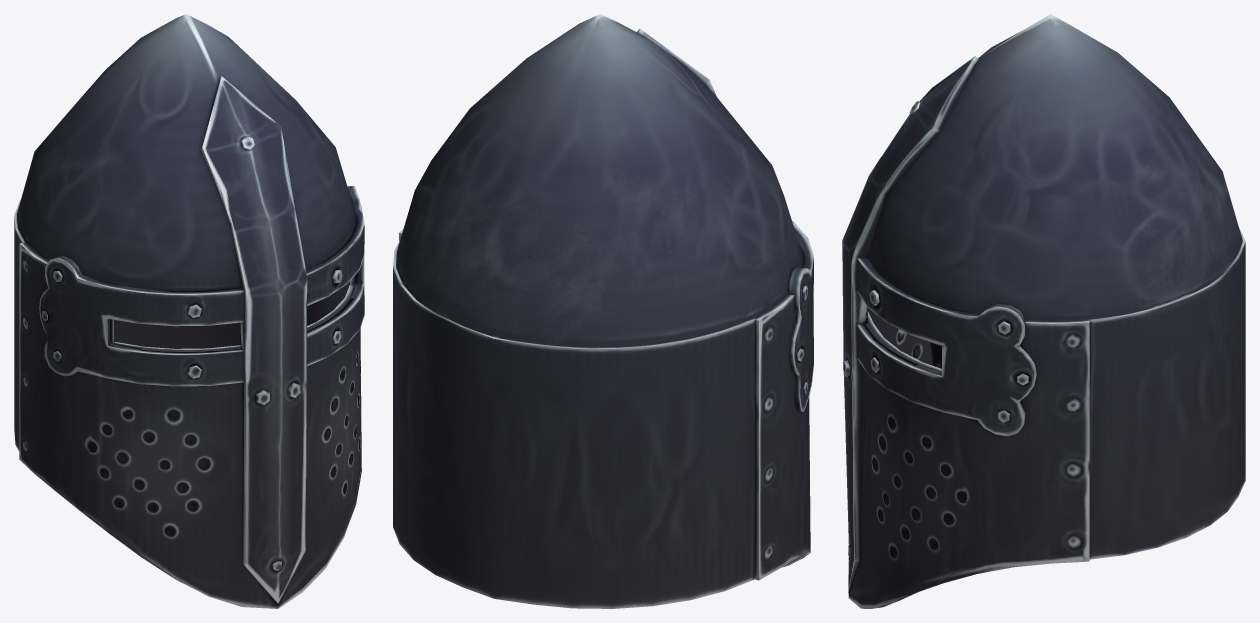
File: helmet.fbx
The picture shows the model from 3 angles, left to right: view 1: azimuth 30°, elevation 25°; view 2: azimuth 150°, elevation 25°; view 3: azimuth 270°, elevation 25°; orthographic projection. The views are drawn at different scales.
Visible parts, largest first — view 1: helmet; view 2: helmet; view 3: helmet.
Boxes of the visible parts, x1,y1,x2,y2 form: helmet: (14,14,364,608); helmet: (393,14,813,608); helmet: (842,14,1245,608).
Bounding box in the file's own units: 25.56 × 41.64 × 26.07.
